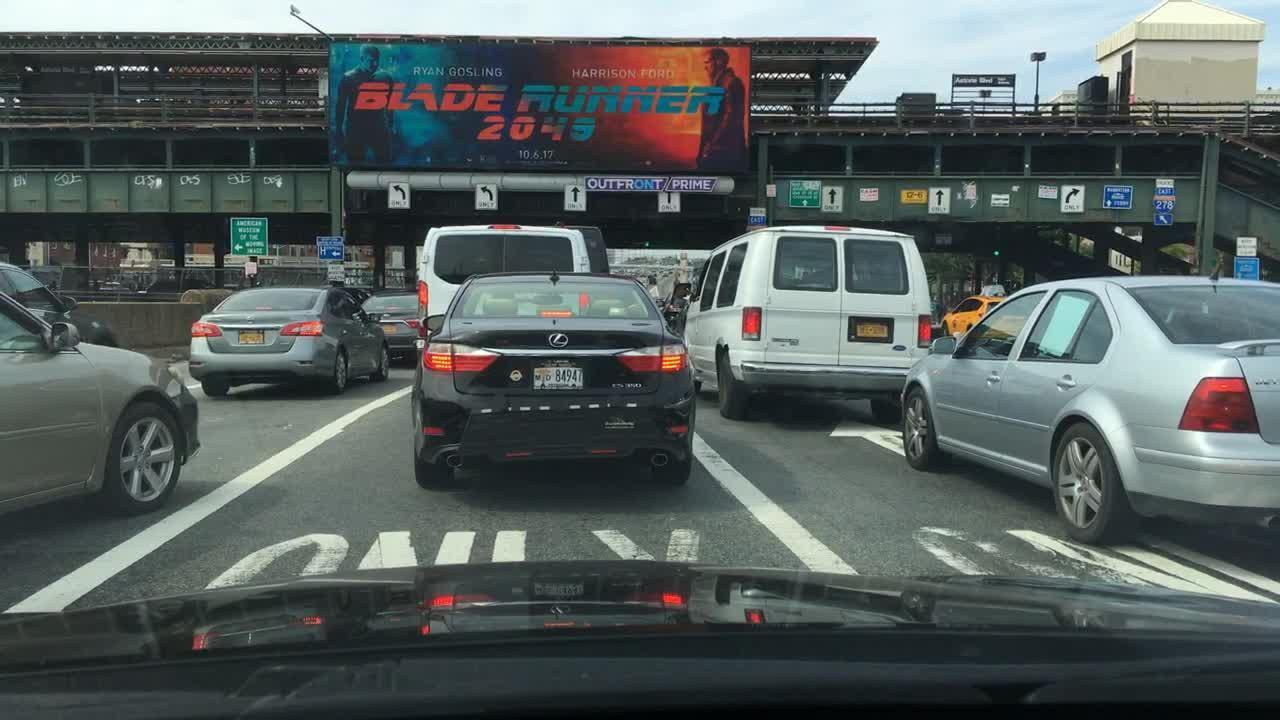ford: (892, 343, 909, 354)
lexus: (541, 327, 574, 352)
